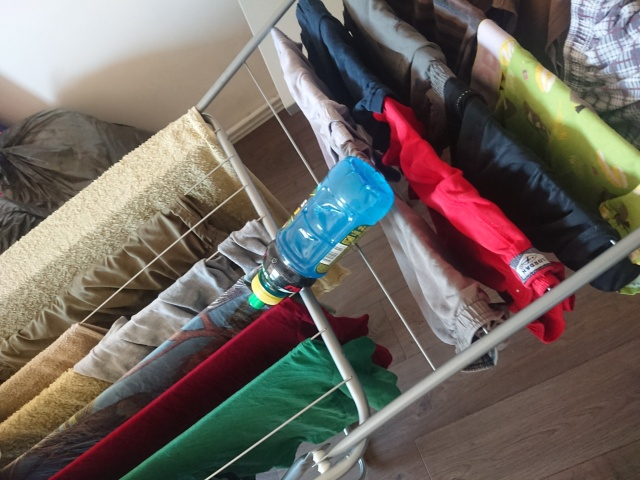Vindi Iso Sport Forest Strawberries 500mL: (245, 153, 397, 313)
